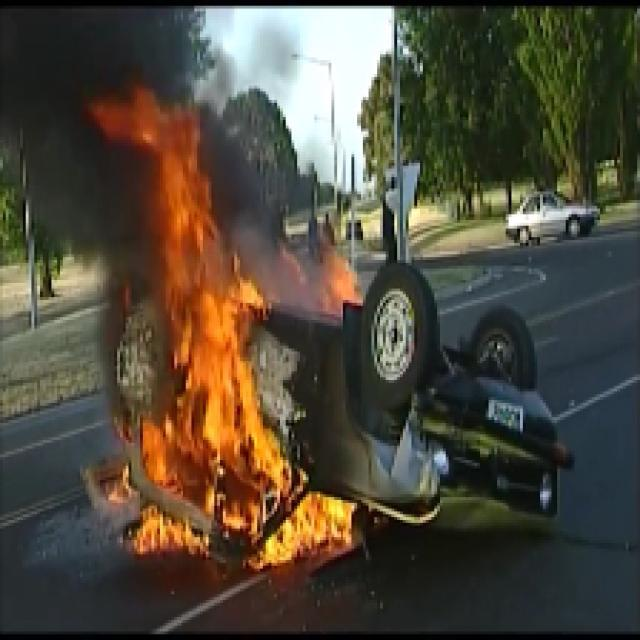Fire: (141, 101, 226, 302), (174, 310, 246, 542), (248, 489, 349, 564), (130, 452, 172, 550)
Smoke: (6, 17, 105, 225), (110, 18, 182, 80)
